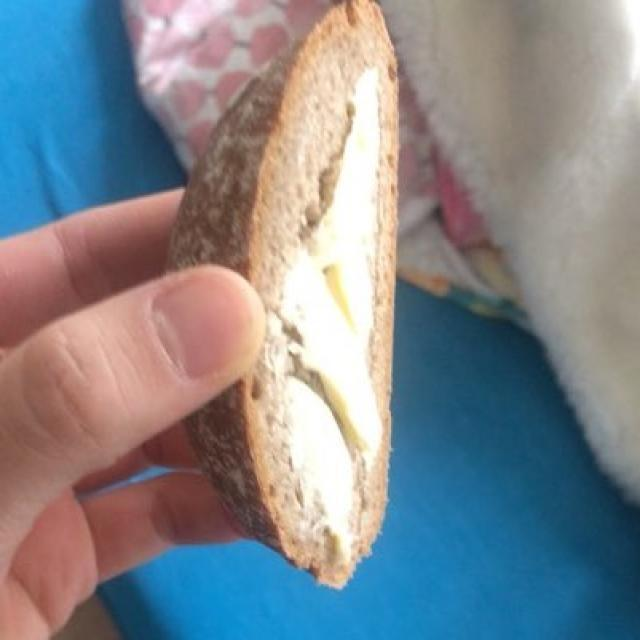bread: (172, 18, 392, 567)
butter: (278, 68, 384, 560)
